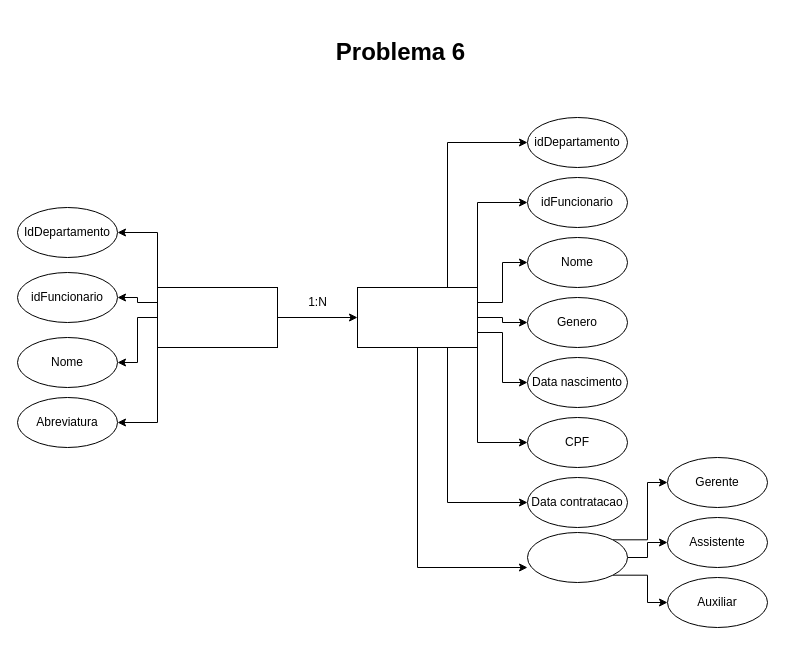
Some shapes in this 785 by 645 pixel diagram are drawn without their labels. Each missing label, with the box of its shape:
Departamento: (156, 286, 278, 348)
Funcionario: (356, 286, 478, 348)
Profissao: (526, 532, 628, 582)
